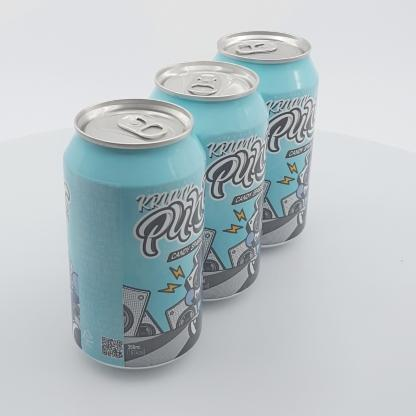-----------------350ML: (63, 98, 206, 370), (144, 60, 269, 302), (208, 30, 319, 248)
